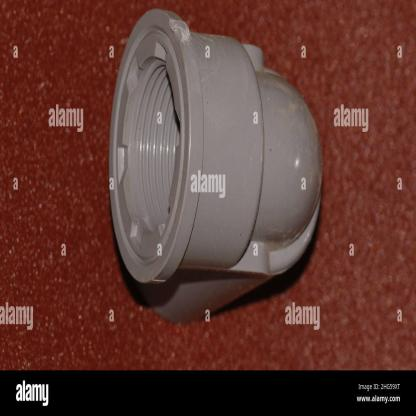PVC: (109, 9, 323, 324)
